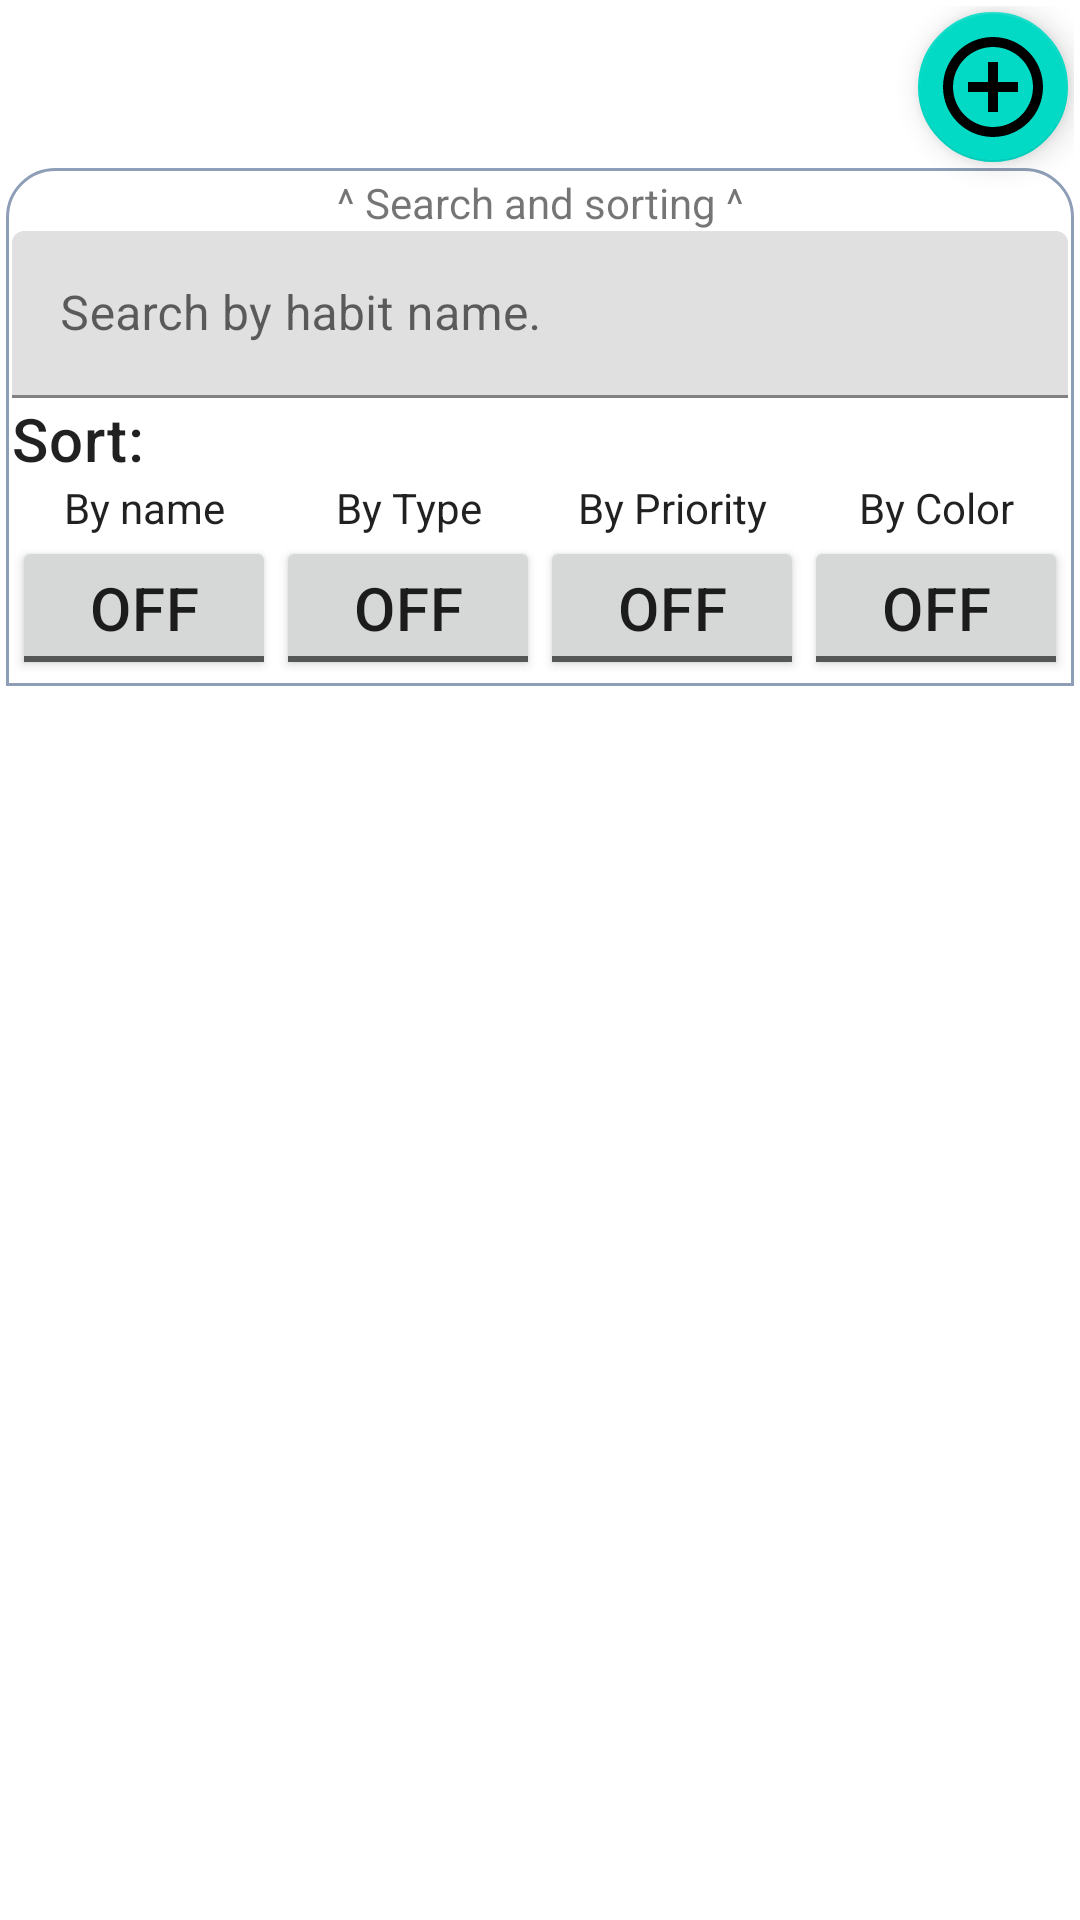

Screen size 1080w x 1920h. Icon name, then its center in pixels as point (x, y):
Create new habit: point (993, 87)
